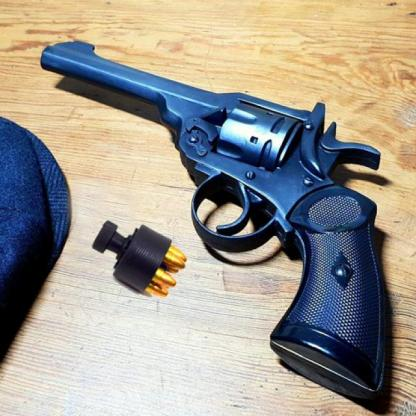handgun: (43, 36, 392, 400)
